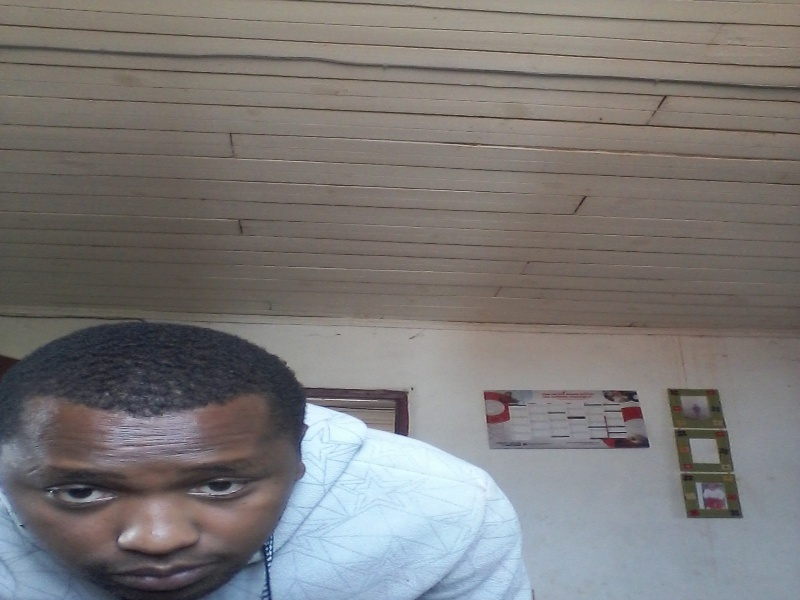TsisyArotava: (14, 341, 312, 599)
